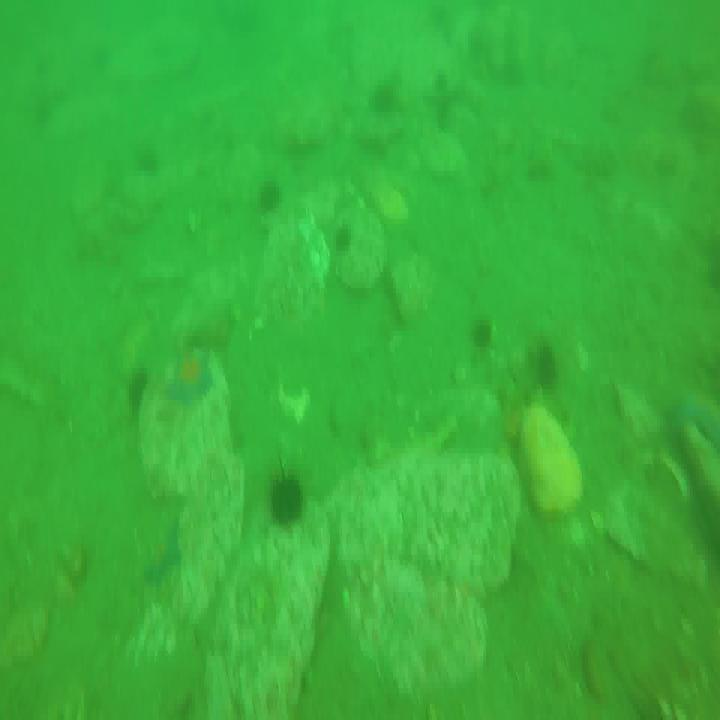echinus: (270, 472, 305, 527), (532, 342, 562, 395), (329, 217, 359, 257), (468, 313, 495, 351), (372, 76, 397, 115), (256, 174, 280, 213)
starfish: (145, 516, 183, 589), (170, 351, 214, 408)
